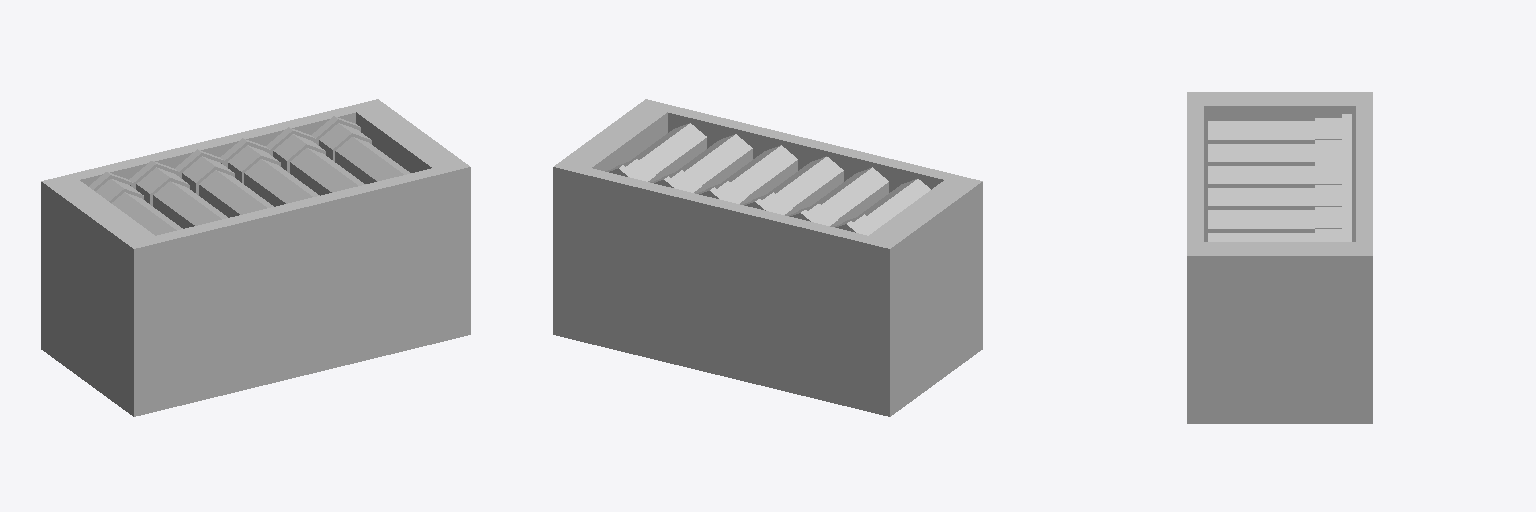
File: Model_Ammo.obj
3 views of the same model, side by side, from view 1: azimuth 30°, elevation 25°; view 2: azimuth 150°, elevation 25°; view 3: azimuth 270°, elevation 25° (orthographic).
Visible parts, largest first — view 1: Cube, shell; view 2: Cube, shell; view 3: Cube, shell.
Boxes of the visible parts, x1,y1,x2,y2 form: Cube: [41, 99, 470, 416]; shell: [89, 116, 410, 235]; Cube: [553, 99, 982, 416]; shell: [605, 123, 930, 235]; Cube: [1187, 92, 1372, 423]; shell: [1208, 114, 1351, 241].
Size of the model in its own units: 0.9107 by 0.4447 by 0.4339.